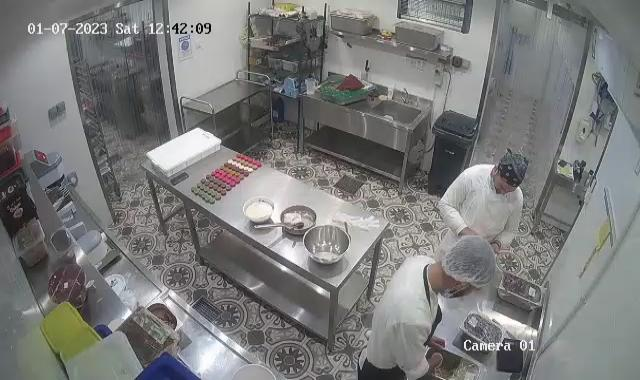hairnet: (441, 235, 499, 291)
no_hairnet: (493, 149, 532, 194)
